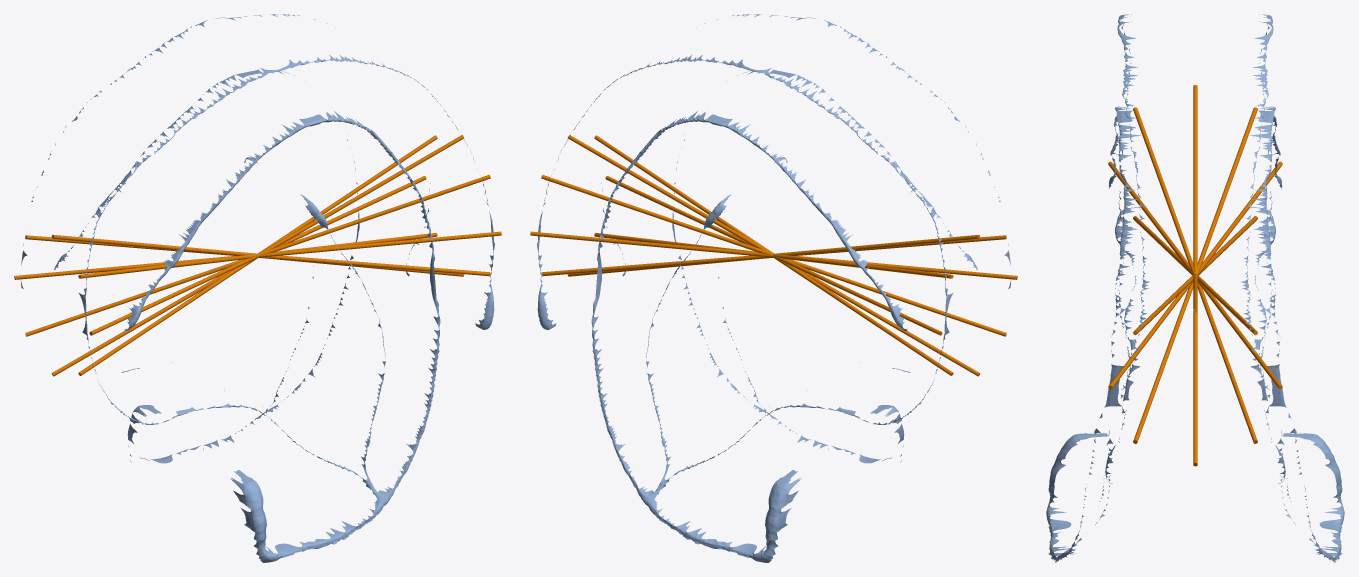
File: A60025763_6150-37-520-1796_DigitalTwin.glb
The picture shows the model from 3 angles, left to right: view 1: azimuth 30°, elevation 25°; view 2: azimuth 150°, elevation 25°; view 3: azimuth 270°, elevation 25°; orthographic projection. The views are drawn at different scales.
Parts seen in each view (by area): view 1: world; view 2: world; view 3: world.
Part boxes in pixels (box(x1,y1,x2,y2)): world: box(14, 14, 501, 562); world: box(530, 14, 1017, 562); world: box(1046, 14, 1344, 562).
Bounding box in the file's own units: 470 × 502 × 264.
